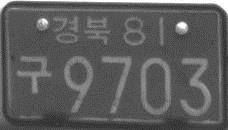0: (139, 55, 172, 116)
1: (154, 15, 169, 47)
3: (178, 55, 211, 118)
7: (99, 53, 133, 117)
8: (123, 15, 146, 47)
9: (61, 55, 95, 116)
경북_O: (50, 15, 111, 47)
구: (14, 54, 53, 94)
